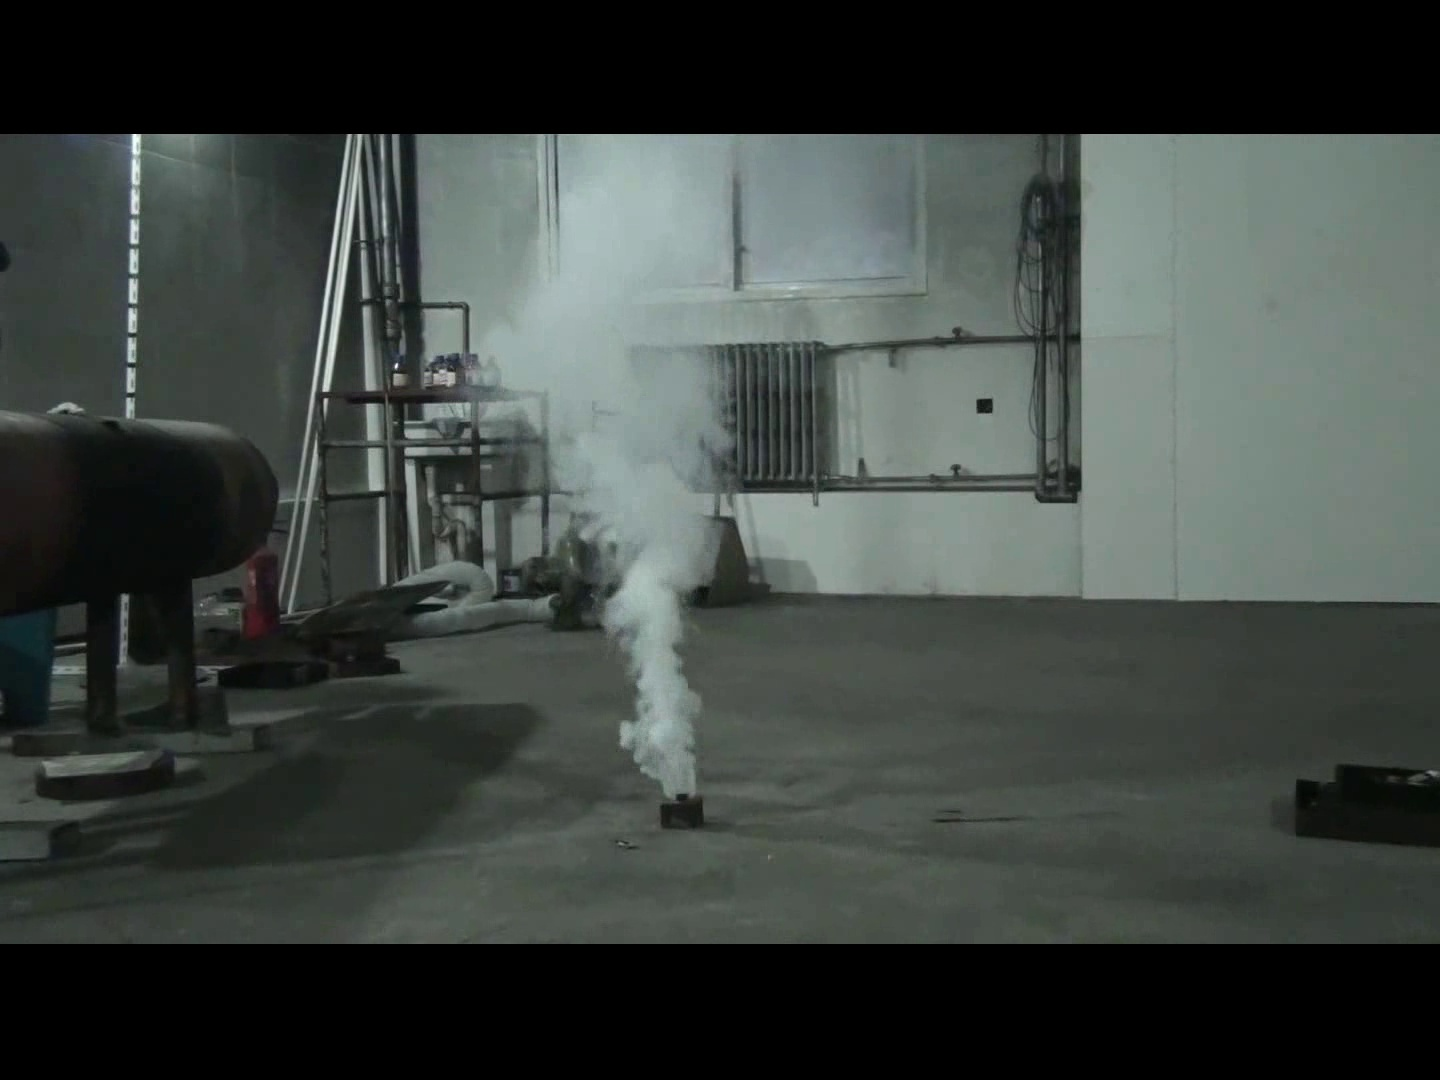smoke: (471, 155, 714, 801)
